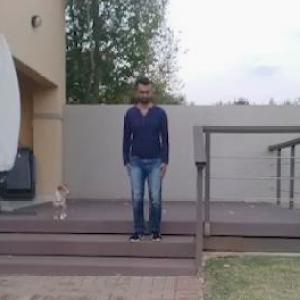follow: (127, 73, 173, 253)
